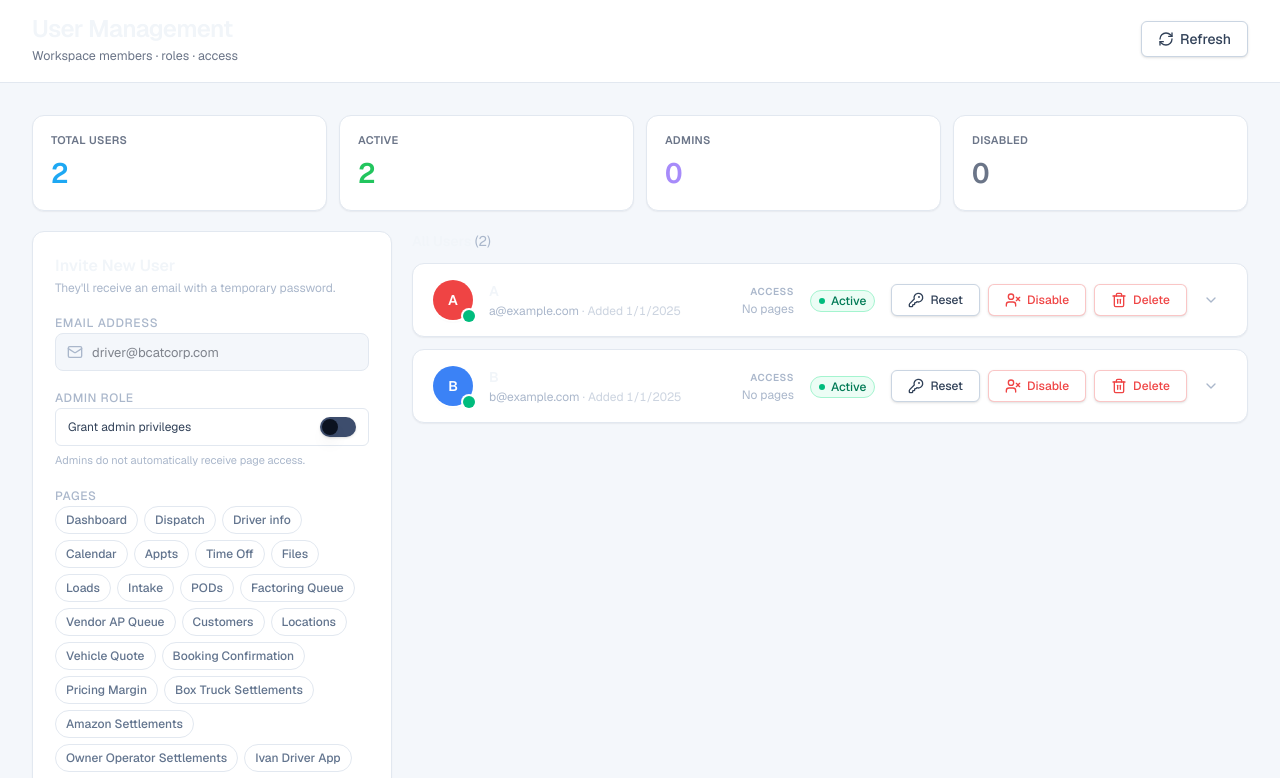
Test case: UsersPage › globally disables page toggles across users while any save is in flight
The image size is (1280, 778).
Expected: the text "a@example.com" is shown, [489,303,579,319]
Expected: the number of elements with test id "user-card" is 2, [412,263,1248,337]; [412,349,1248,423]
Expand both user cards.
Click the button named "Toggle permissions" in the row of "a@example.com". click: coordinates (1211, 300)
box: [1195,284,1227,316]
(page scrolled)
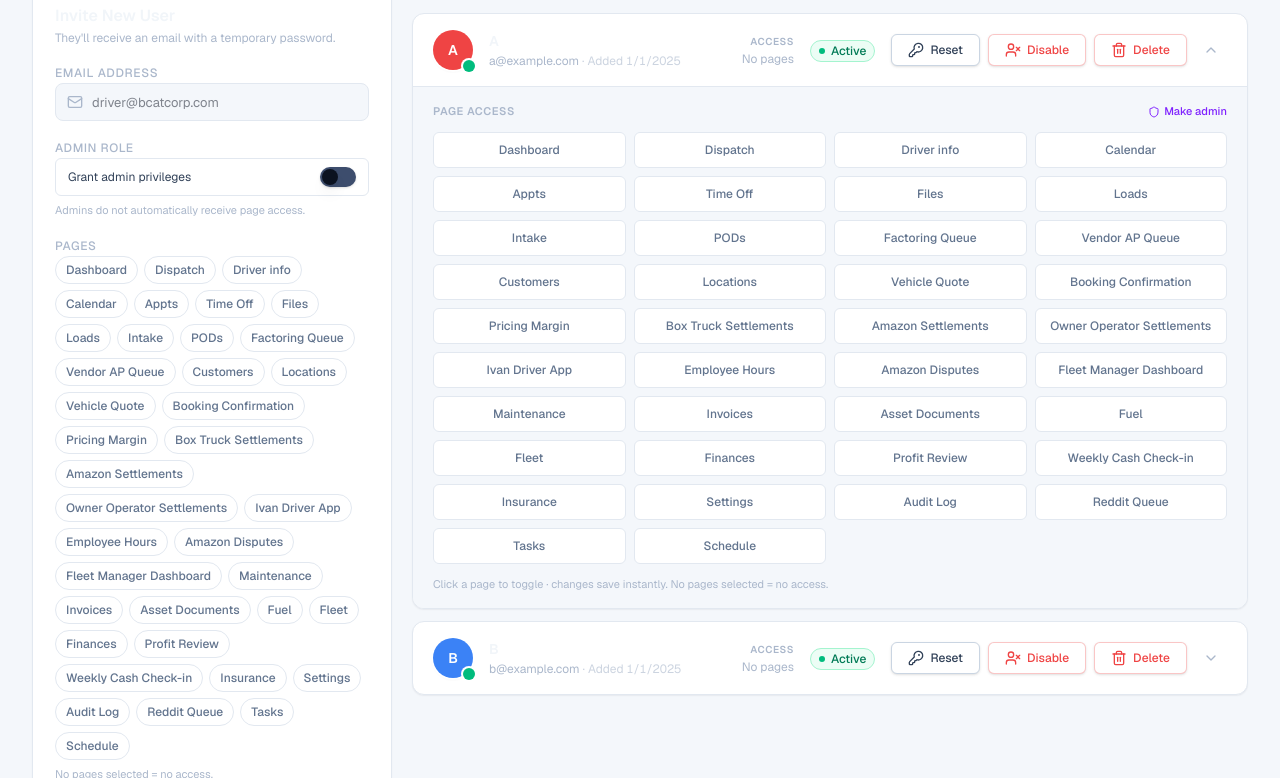
Click the button named "Toggle permissions" in the row of "b@example.com". click: coordinates (1211, 658)
box: [1195,642,1227,674]
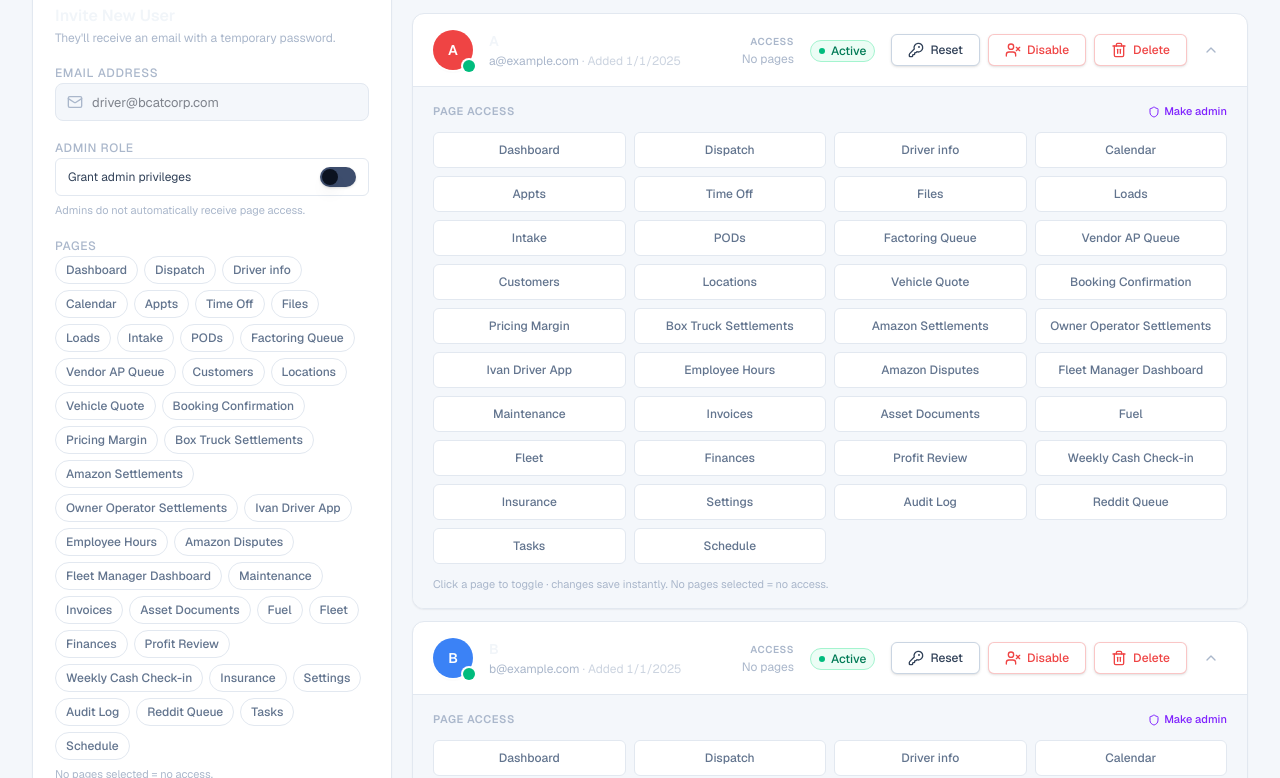
Expected: the button with test id "user-page-toggle" is shown
Click the button with test id "user-page-toggle". click: coordinates (529, 150)
box: [433,132,626,168]
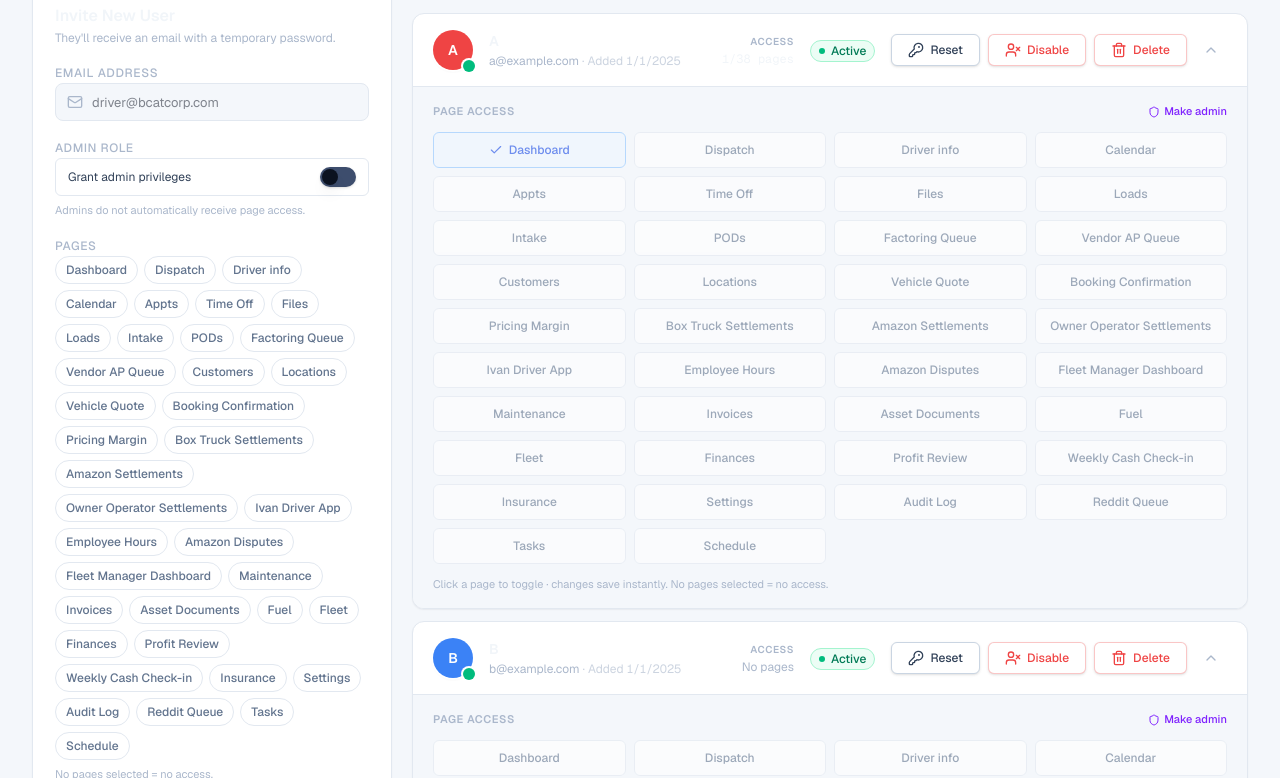
Expected: the button with test id "user-page-toggle" is disabled, [433,132,626,168]
Clicking user B's toggle does not fire a second request.
Click the button with test id "user-page-toggle". click: coordinates (529, 758)
box: [433,740,626,776]
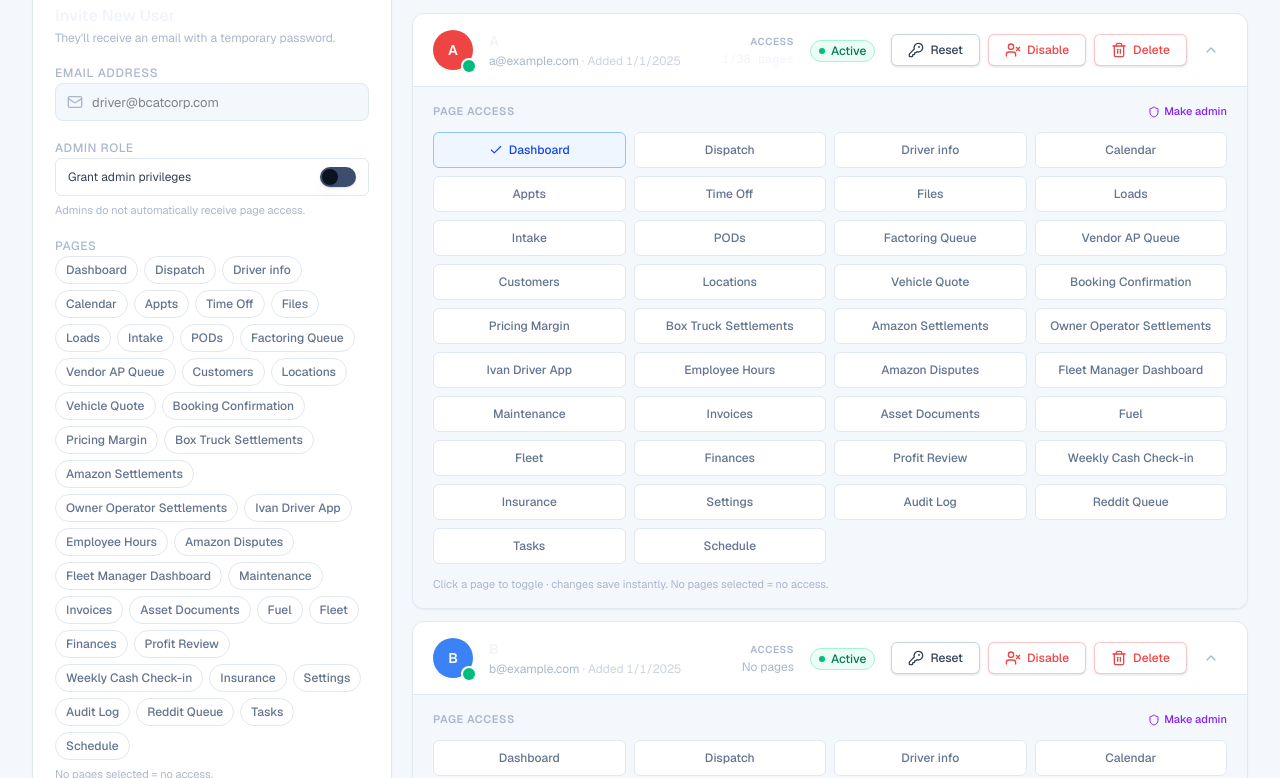
Expected: the button with test id "user-page-toggle" is enabled, [433,132,626,168]
